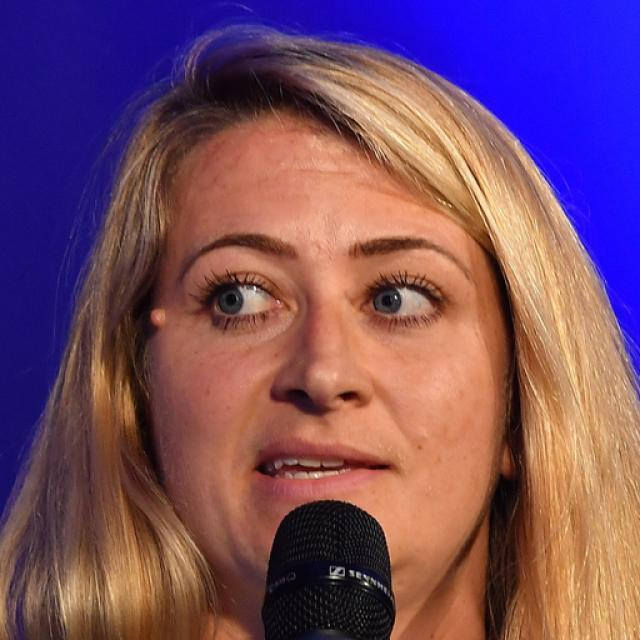fear: (142, 102, 512, 592)
